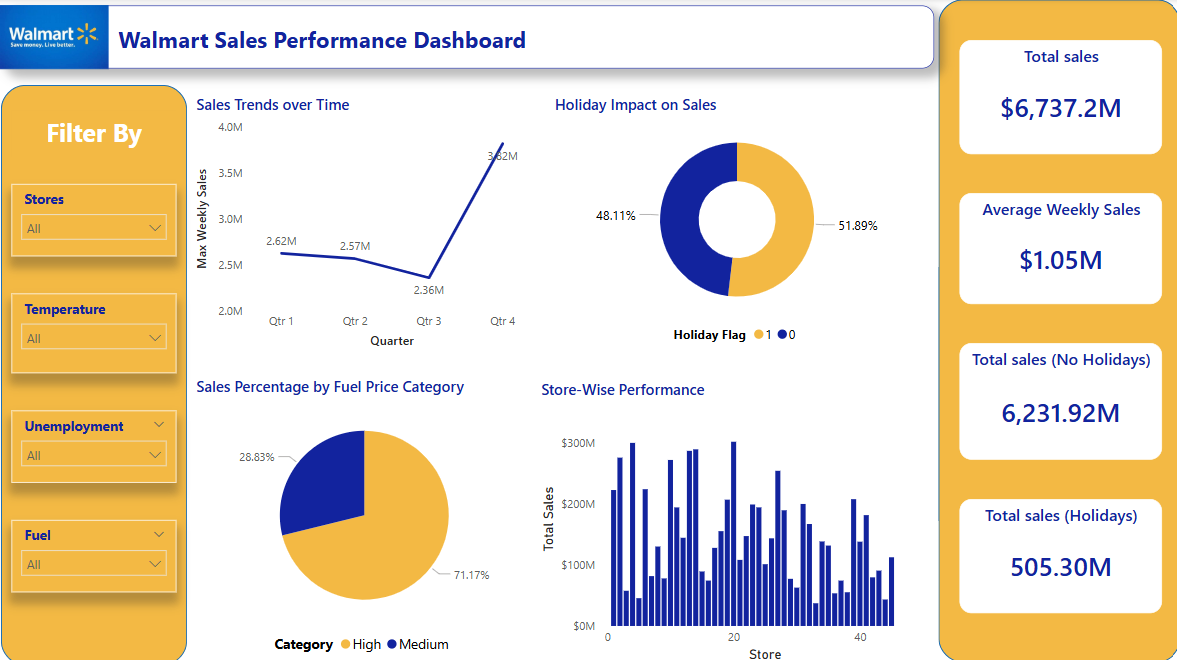

What the dashboard file says about the page in this screenshot:
{"tool":"powerbi","page":{"name":"Page 1","canvas":[1280,720],"ordinal":0},"visuals":[{"type":"shape","box":[1018.5,1.6,262.3,715.7],"z":0},{"type":"textbox","box":[134.4,16.2,547.3,50.2],"z":1000},{"type":"card","title":"Total sales","fields":{"Values":["SalesData.Total Sales"]},"box":[1041.2,45.3,218.6,123.1],"z":2000},{"type":"card","title":"Total sales (Holidays)","fields":{"Values":["SalesData.Total Sales(Holiday)"]},"box":[1041.2,540.8,218.6,123.1],"z":3000},{"type":"card","title":"Total sales (No Holidays)","fields":{"Values":["SalesData.Total Sales(No Holiday)"]},"box":[1041.2,372.4,218.6,126.3],"z":4000},{"type":"card","title":"Average Weekly Sales","fields":{"Values":["SalesData.Avg Weekly Sales"]},"box":[1041.2,210.5,218.6,119.8],"z":5000},{"type":"shape","box":[6.5,8.1,1007.2,68],"z":6000},{"type":"image","box":[0,1.6,127.9,81],"z":7000},{"type":"textbox","box":[127.9,22.7,511.7,43.7],"z":8000},{"type":"columnChart","title":"Store-Wise Performance","fields":{"Category":["SalesData.Store"],"Y":["SalesData.Total Sales"]},"box":[584.5,411.3,429.1,309.3],"z":9000},{"type":"donutChart","title":"Holiday Impact on Sales","fields":{"Category":["SalesData.Holiday_Flag"],"Y":["SalesData.Avg Weekly Sales"]},"box":[599.1,103.6,403.2,278.5],"z":10000},{"type":"pieChart","title":"Sales Percentage by Fuel Price Category","fields":{"Category":["SalesData.Fuel Price Category"],"Y":["Sum(SalesData.Weekly_Sales)"]},"box":[212.1,408,372.4,309.3],"z":11000},{"type":"shape","box":[6.5,93.9,200.8,626.6],"z":12000},{"type":"slicer","title":"Store","fields":{"Values":["SalesData.Unemployment Category"]},"box":[17.8,445.3,178.1,77.7],"z":13000},{"type":"slicer","title":"Store","fields":{"Values":["SalesData.Temperature Category"]},"box":[17.8,319,178.1,85.8],"z":14000},{"type":"slicer","title":"Store","fields":{"Values":["SalesData.Store"]},"box":[17.8,200.8,178.1,77.7],"z":15000},{"type":"textbox","box":[17.8,121.4,178.1,50.2],"z":16000},{"type":"lineChart","title":"Sales Trends over Time","fields":{"Y":["Max(SalesData.Weekly_Sales)"],"Category":["SalesData.Date.Variation.Date Hierarchy.Year","SalesData.Date.Variation.Date Hierarchy.Quarter"]},"box":[212.1,103.6,372.4,278.5],"z":17000},{"type":"slicer","title":"Store","fields":{"Values":["SalesData.Fuel Price Category"]},"box":[17.8,563.5,178.1,77.7],"z":18000}]}

Visuals, with their boxes in screenshot pixels (x1, y1, x2, y2), scaled from the page's 1280x720 canvas onto the 1177x660 screenshot:
shape: [937, 1, 1176, 658]
textbox: [124, 15, 627, 61]
"Total sales" card: [957, 42, 1158, 154]
"Total sales (Holidays)" card: [957, 496, 1158, 609]
"Total sales (No Holidays)" card: [957, 341, 1158, 457]
"Average Weekly Sales" card: [957, 193, 1158, 303]
shape: [6, 7, 932, 70]
image: [0, 1, 118, 76]
textbox: [118, 21, 588, 61]
"Store-Wise Performance" columnChart: [537, 377, 932, 659]
"Holiday Impact on Sales" donutChart: [551, 95, 922, 350]
"Sales Percentage by Fuel Price Category" pieChart: [195, 374, 537, 658]
shape: [6, 86, 191, 659]
"Store" slicer: [16, 408, 180, 479]
"Store" slicer: [16, 292, 180, 371]
"Store" slicer: [16, 184, 180, 255]
textbox: [16, 111, 180, 157]
"Sales Trends over Time" lineChart: [195, 95, 537, 350]
"Store" slicer: [16, 517, 180, 588]
